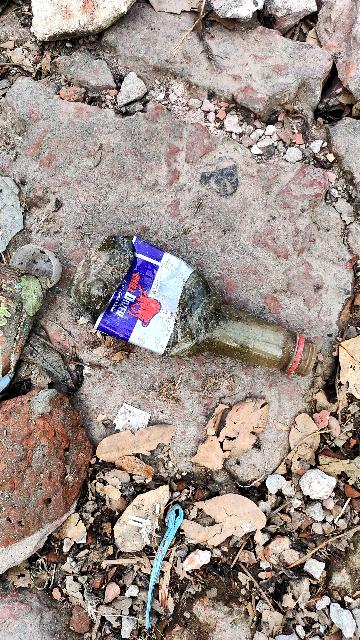bottle: (74, 227, 334, 412)
